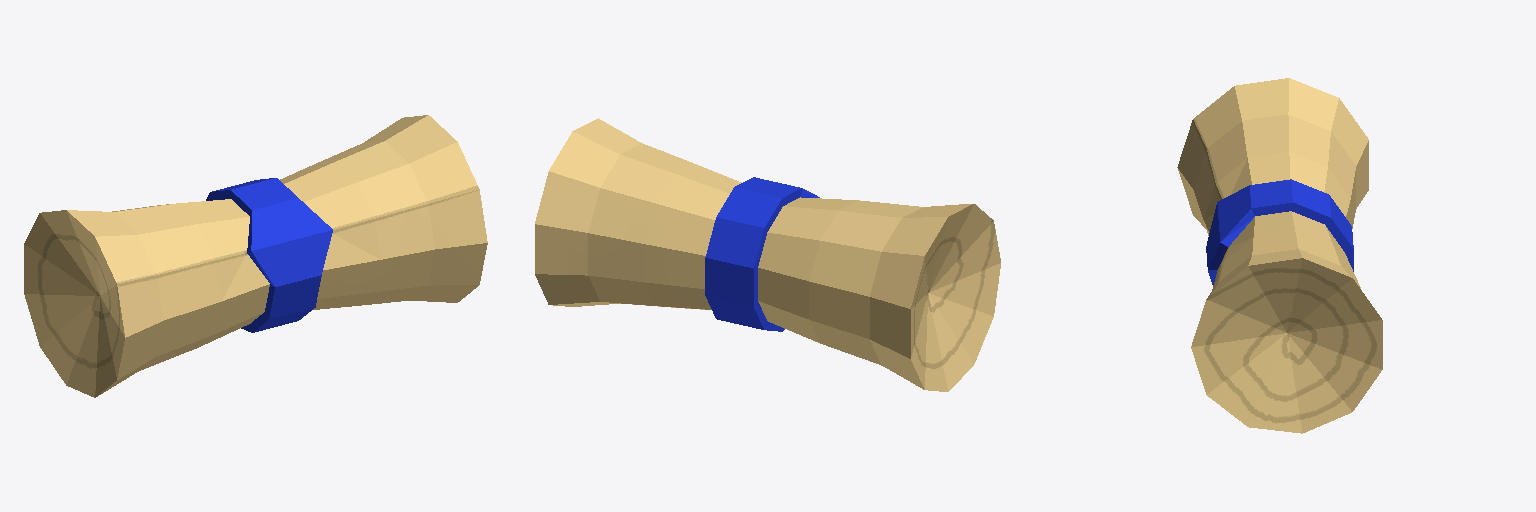
3 renders of one model, left to right at view 1: azimuth 30°, elevation 25°; view 2: azimuth 150°, elevation 25°; view 3: azimuth 270°, elevation 25°, orthographic.
Visible parts, largest first — view 1: scroll_pCylinder1; view 2: scroll_pCylinder1; view 3: scroll_pCylinder1.
Part boxes in pixels (x1,y1,x2,y2): scroll_pCylinder1: (24, 115, 487, 397); scroll_pCylinder1: (535, 118, 1000, 391); scroll_pCylinder1: (1177, 78, 1382, 433).
Bounding box in the file's own units: 2.7 × 1.21 × 1.28.
Materials: 1 (1 with a texture image).